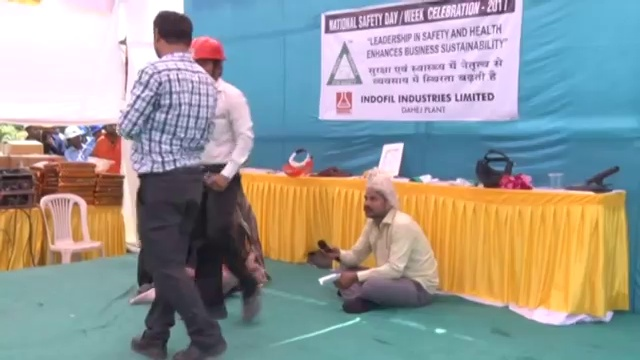helmet: (187, 37, 229, 67), (86, 157, 116, 175), (61, 127, 85, 142)
helmet_off: (189, 40, 265, 325), (142, 7, 195, 66), (355, 174, 399, 228), (23, 124, 42, 142), (99, 125, 118, 140), (39, 126, 55, 139)
helmet_on: (189, 39, 231, 82), (61, 127, 85, 150)
person: (117, 18, 217, 340), (313, 172, 440, 321), (90, 124, 122, 178), (62, 126, 93, 163), (38, 125, 62, 157)
